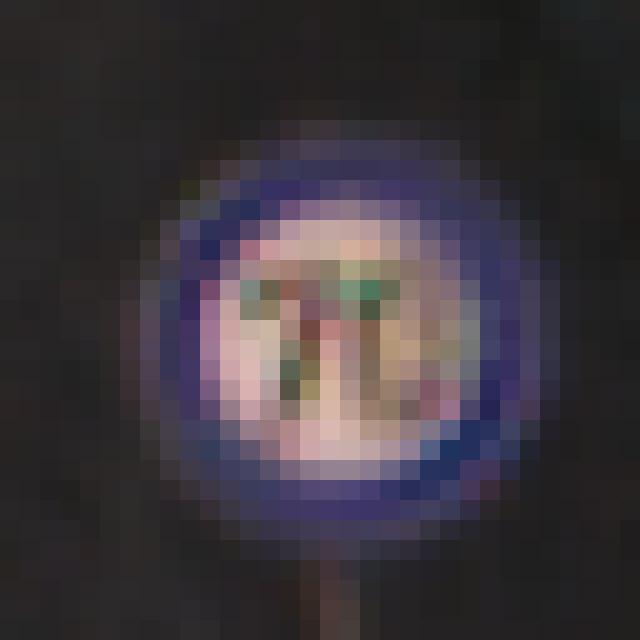SPEED LIMIT 70: (147, 169, 537, 539)
